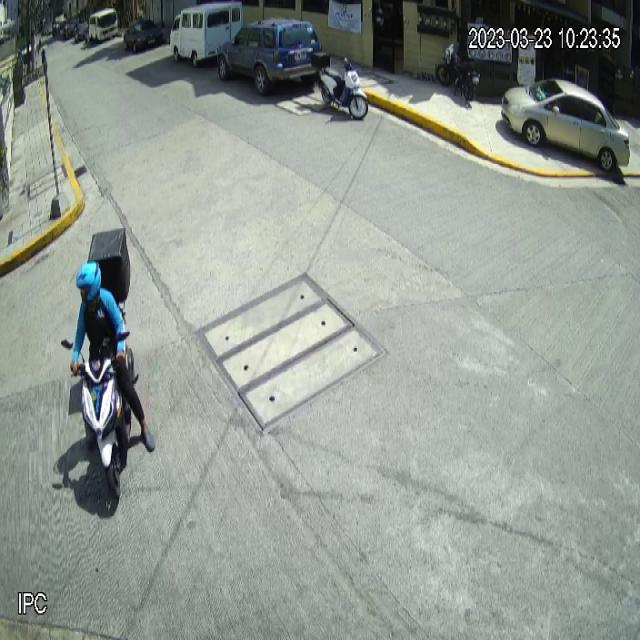Car: (500, 78, 630, 174), (217, 16, 322, 89)
Motorcycle: (61, 327, 140, 500), (310, 50, 369, 117)
Van: (169, 2, 244, 68)
